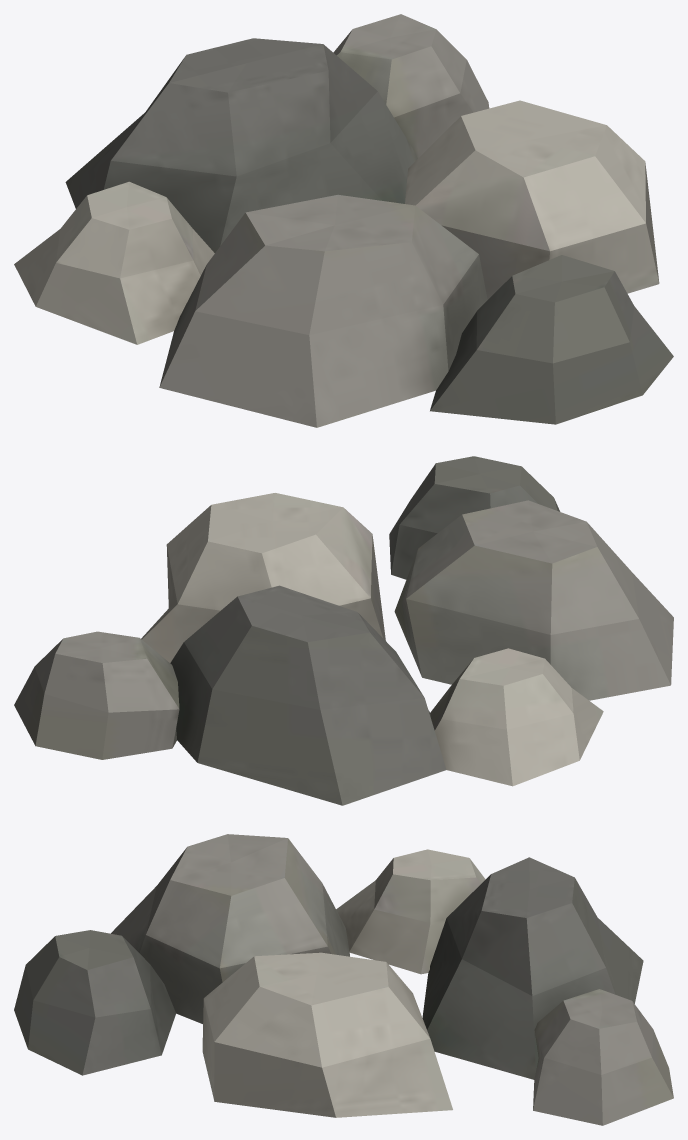
The model's file is seixos.glb.
The picture shows the model from 3 angles, top to bottom: view 1: azimuth 30°, elevation 25°; view 2: azimuth 150°, elevation 25°; view 3: azimuth 270°, elevation 25°; orthographic projection. The views are drawn at different scales.
Visible parts, largest first — view 1: seixos_corpo; view 2: seixos_corpo; view 3: seixos_corpo.
Part boxes in pixels (box(x1,y1,x2,y2)): seixos_corpo: box(14, 14, 673, 427); seixos_corpo: box(14, 456, 673, 805); seixos_corpo: box(14, 834, 673, 1125).
Bounding box in the file's own units: 0.4239 × 0.105 × 0.52.
Materials: 1 (1 with a texture image).
